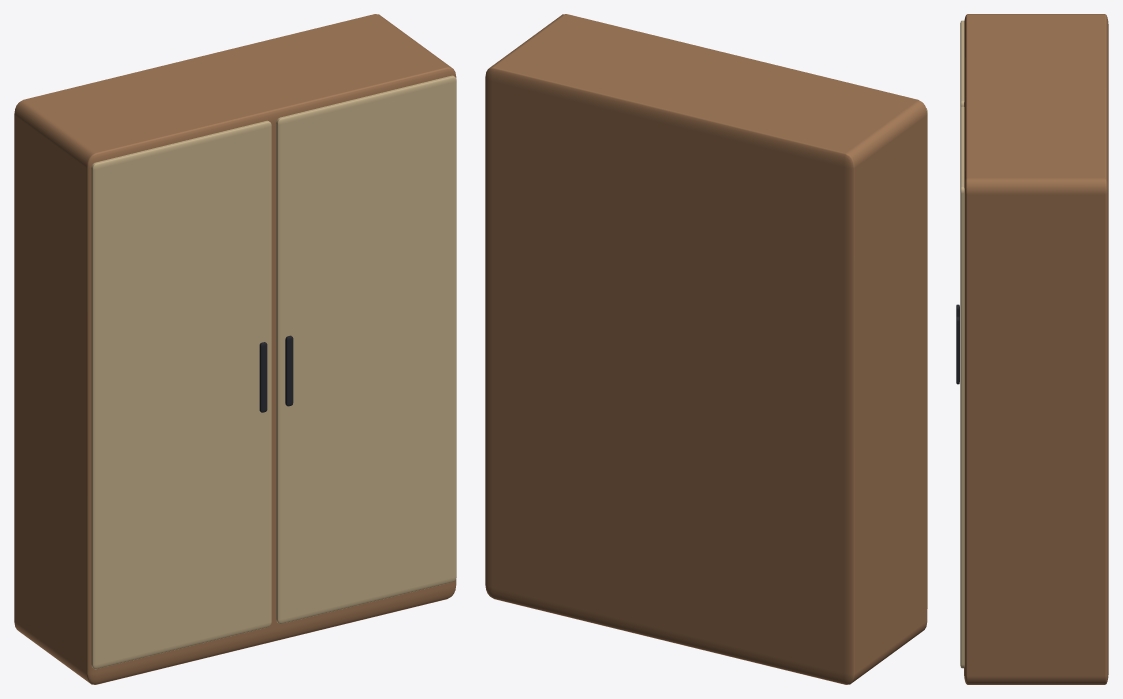
Rendered from wardrobe-oak.glb.
3 renders of one model, left to right at view 1: azimuth 30°, elevation 25°; view 2: azimuth 150°, elevation 25°; view 3: azimuth 270°, elevation 25°, orthographic. The views are drawn at different scales.
Bounding box in the file's own units: 1.6 × 2.2 × 0.6.
